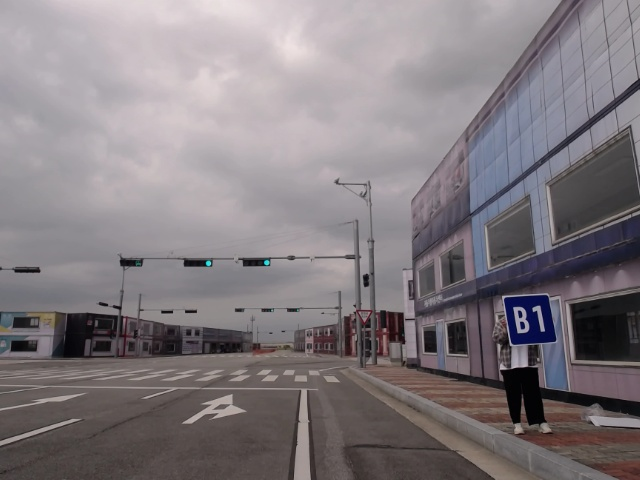delivery_b1: (503, 294, 557, 346)
straight_green_4: (184, 258, 213, 267), (243, 258, 271, 266), (261, 308, 275, 312), (287, 308, 300, 312)
